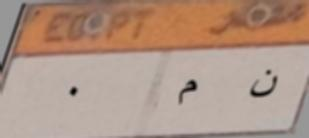0: (65, 80, 89, 106)
meem: (170, 73, 205, 107)
noon: (247, 68, 279, 108)
